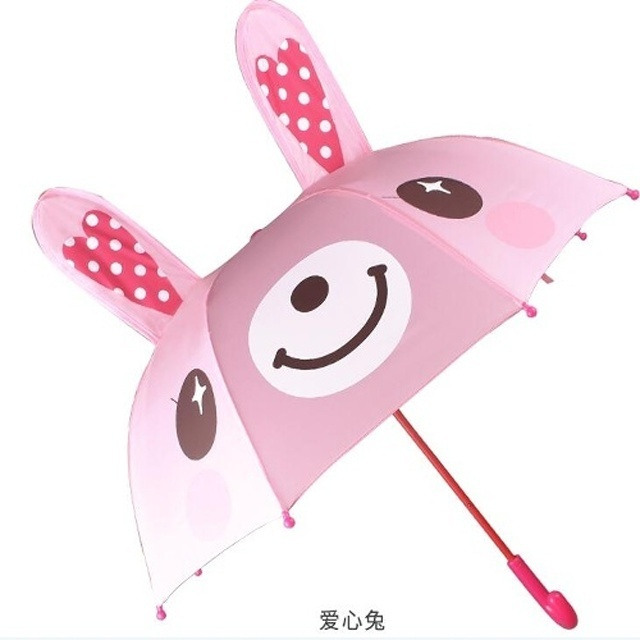umbrella: (120, 128, 640, 632)
